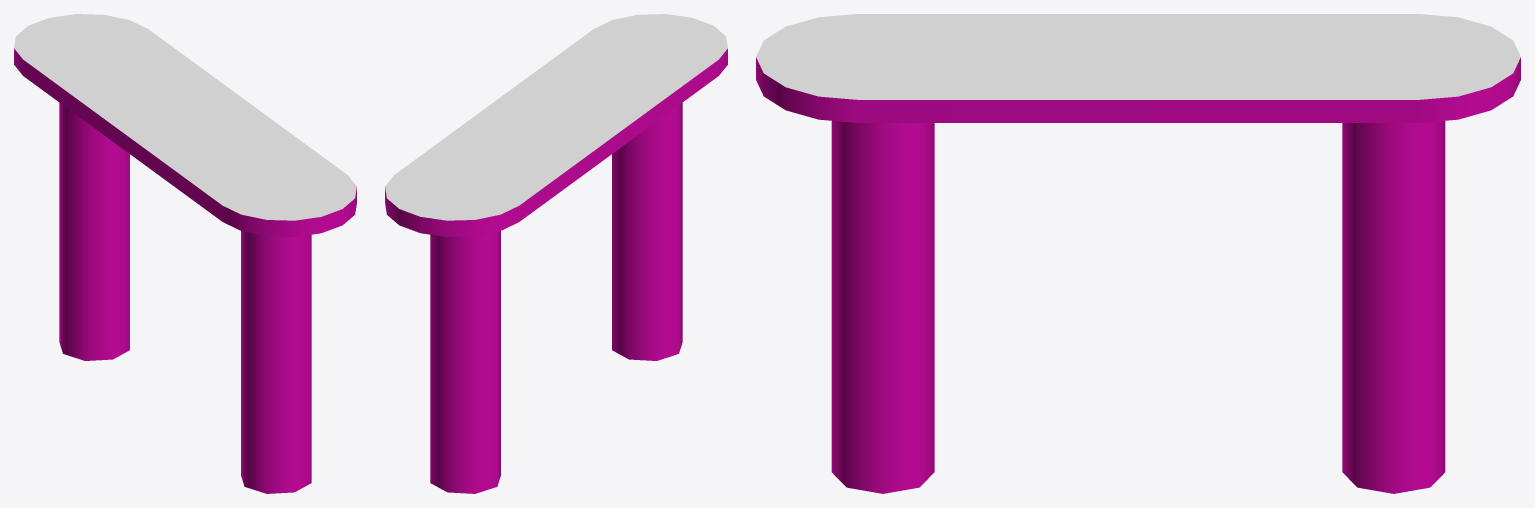
The model's file is Table01.fbx.
The picture shows the model from 3 angles, left to right: view 1: azimuth 30°, elevation 25°; view 2: azimuth 150°, elevation 25°; view 3: azimuth 270°, elevation 25°; orthographic projection. The views are drawn at different scales.
Parts seen in each view (by area): view 1: Table01; view 2: Table01; view 3: Table01.
Part boxes in pixels (x1,y1,x2,y2): Table01: (14,14,356,493); Table01: (385,14,727,493); Table01: (756,14,1520,493).
Bounding box in the file's own units: 39.92 × 90 × 150.
